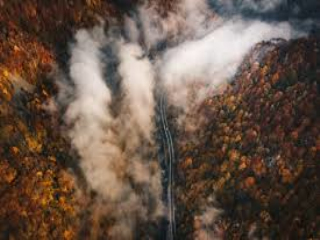smoke: (68, 23, 178, 237), (149, 7, 302, 96)
